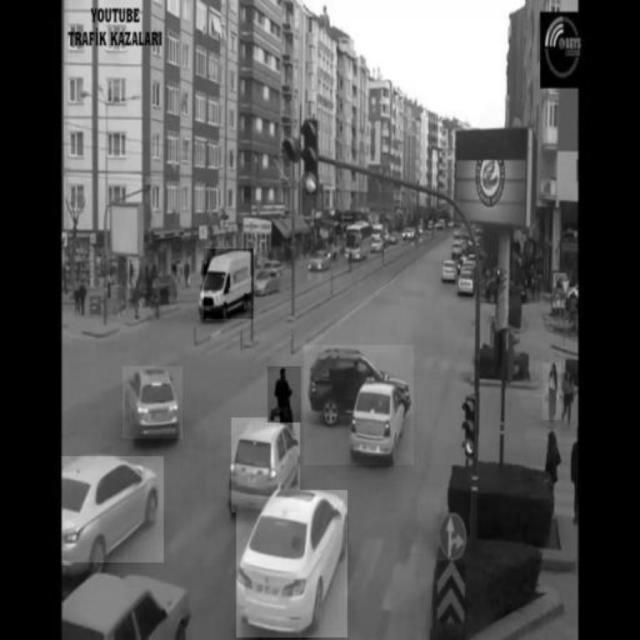accident: (304, 346, 414, 466)
person: (543, 362, 561, 420)
vehicle: (236, 491, 347, 638), (61, 456, 163, 562), (232, 418, 300, 512), (123, 367, 183, 439), (204, 250, 254, 320), (268, 367, 302, 423)
